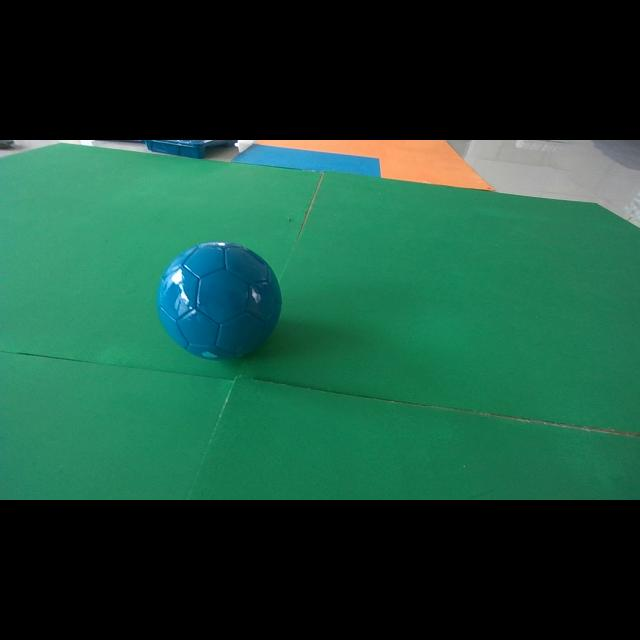B: (158, 241, 282, 360)
